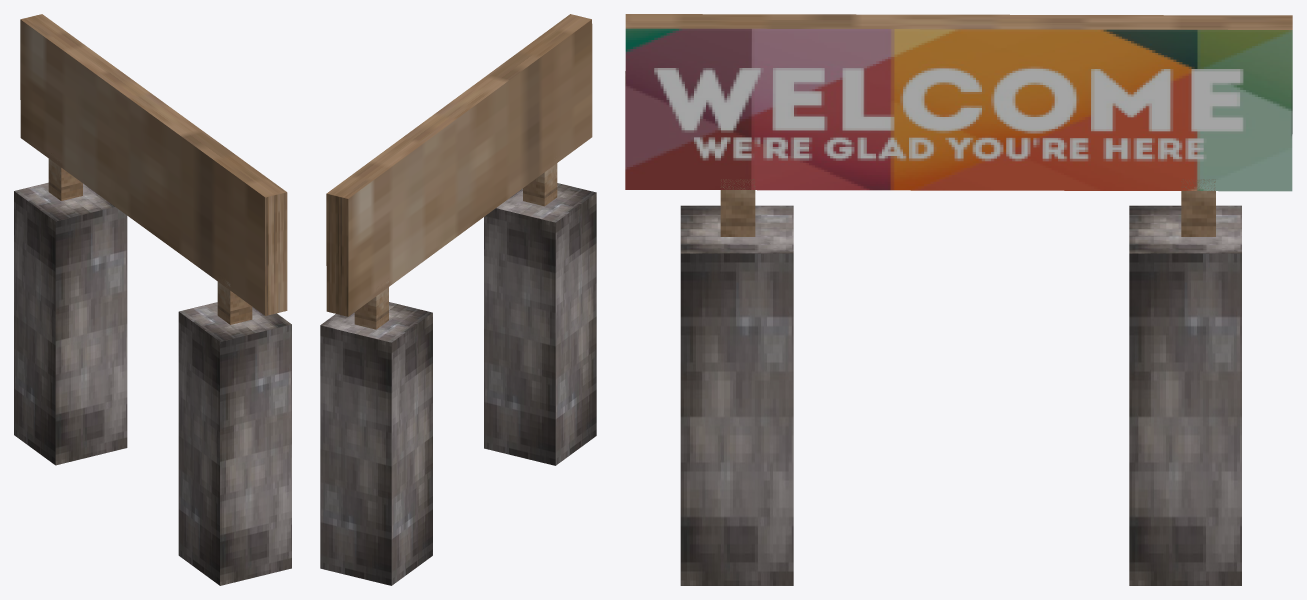
File: Welcome Banner.fbx
3 views of the same model, side by side, from view 1: azimuth 30°, elevation 25°; view 2: azimuth 150°, elevation 25°; view 3: azimuth 270°, elevation 25° (orthographic). The views are drawn at different scales.
Visible parts, largest first — view 1: Welcome Banner; view 2: Welcome Banner; view 3: Welcome Banner.
Part boxes in pixels (x1,y1,x2,y2): Welcome Banner: [14, 14, 291, 585]; Welcome Banner: [320, 14, 596, 585]; Welcome Banner: [625, 14, 1292, 585].
Bounding box in the file's own units: 656 × 3473 × 3884.
Materials: 2 (2 with a texture image).
